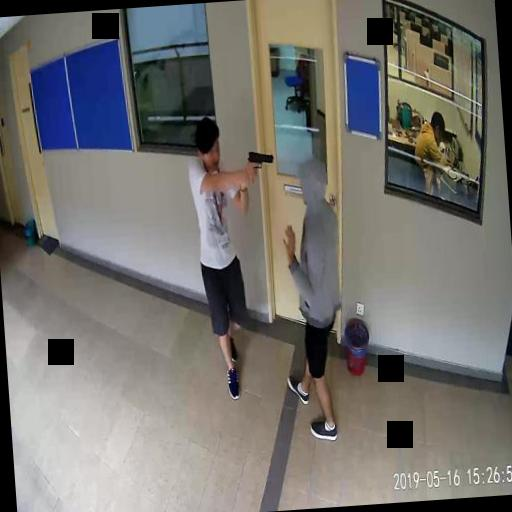Handgun: (246, 148, 274, 180)
